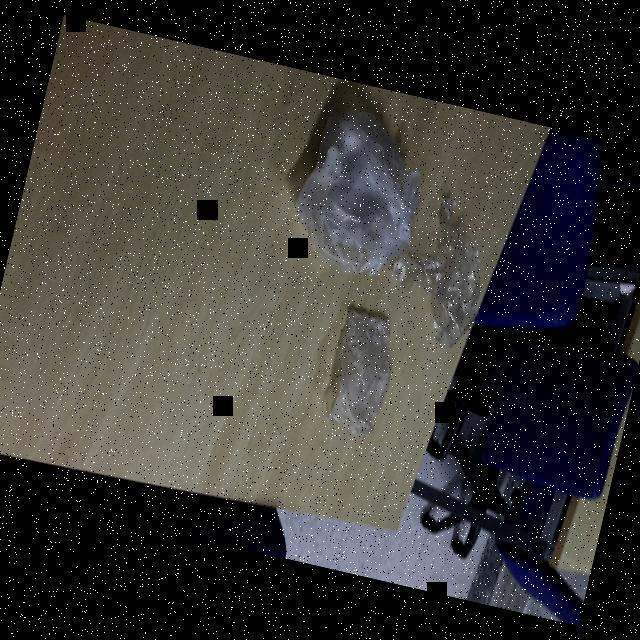plastic_bag: (265, 82, 453, 311)
scrap_plastic: (369, 173, 518, 362), (293, 288, 407, 447)
